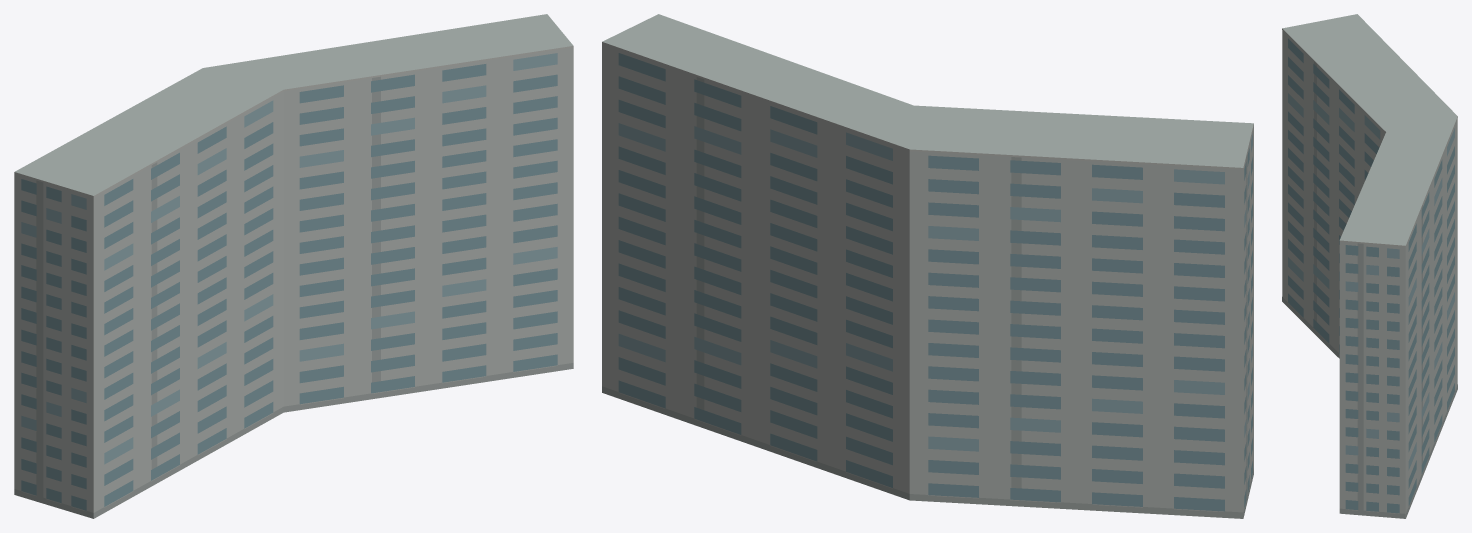
The model's file is residential-d919e7ac-d2da-4dbe-a77d-fbb873d9c132.glb.
3 views of the same model, side by side, from view 1: azimuth 30°, elevation 25°; view 2: azimuth 150°, elevation 25°; view 3: azimuth 270°, elevation 25° (orthographic). The views are drawn at different scales.
Visible parts, largest first — view 1: residential-d919e7ac-d2da-4dbe-a77d-fbb873d9c132.tmp; view 2: residential-d919e7ac-d2da-4dbe-a77d-fbb873d9c132.tmp; view 3: residential-d919e7ac-d2da-4dbe-a77d-fbb873d9c132.tmp.
Part boxes in pixels (bbox=[...]): residential-d919e7ac-d2da-4dbe-a77d-fbb873d9c132.tmp: bbox=[14, 14, 573, 518]; residential-d919e7ac-d2da-4dbe-a77d-fbb873d9c132.tmp: bbox=[602, 14, 1253, 518]; residential-d919e7ac-d2da-4dbe-a77d-fbb873d9c132.tmp: bbox=[1282, 14, 1457, 518].
Bounding box in the file's own units: 83.25 × 45.75 × 26.67.
